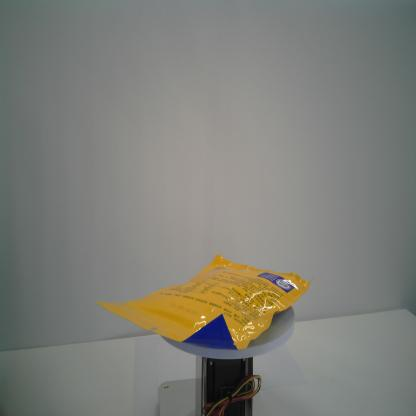Dried Fruit: (95, 253, 314, 351)
